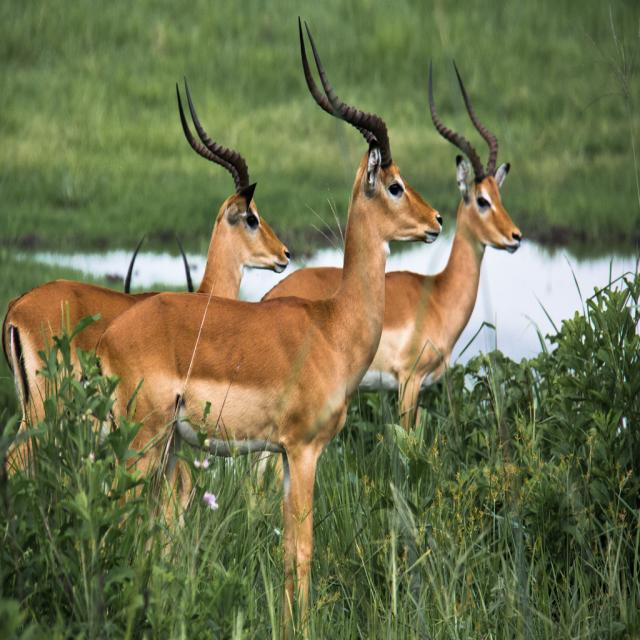Deer: (96, 15, 441, 638), (1, 72, 291, 571), (248, 54, 526, 508)
